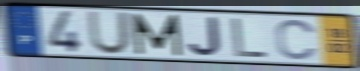4: (47, 9, 84, 55)
C: (274, 18, 319, 62)
J: (186, 16, 224, 58)
L: (230, 17, 270, 59)
M: (129, 12, 184, 57)
U: (86, 10, 132, 56)
